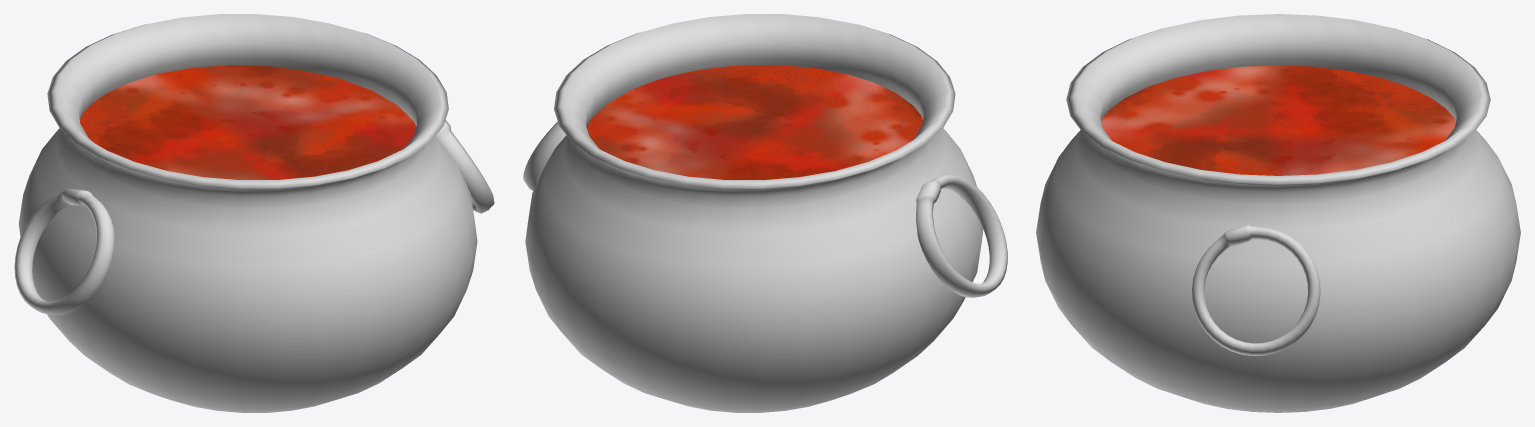
The model's file is chaudron+plateau.fbx.
3 views of the same model, side by side, from view 1: azimuth 30°, elevation 25°; view 2: azimuth 150°, elevation 25°; view 3: azimuth 270°, elevation 25° (orthographic).
Visible parts, largest first — view 1: chaudron, concoction; view 2: chaudron, concoction; view 3: chaudron, concoction.
Boxes of the visible parts, <box> form: chaudron: <box>14,14,494,412</box>; concoction: <box>80,65,416,179</box>; chaudron: <box>523,14,1007,412</box>; concoction: <box>587,65,922,179</box>; chaudron: <box>1036,14,1520,412</box>; concoction: <box>1101,65,1455,175</box>.
Size of the model in its own units: 5.29 by 3.05 by 4.83.
